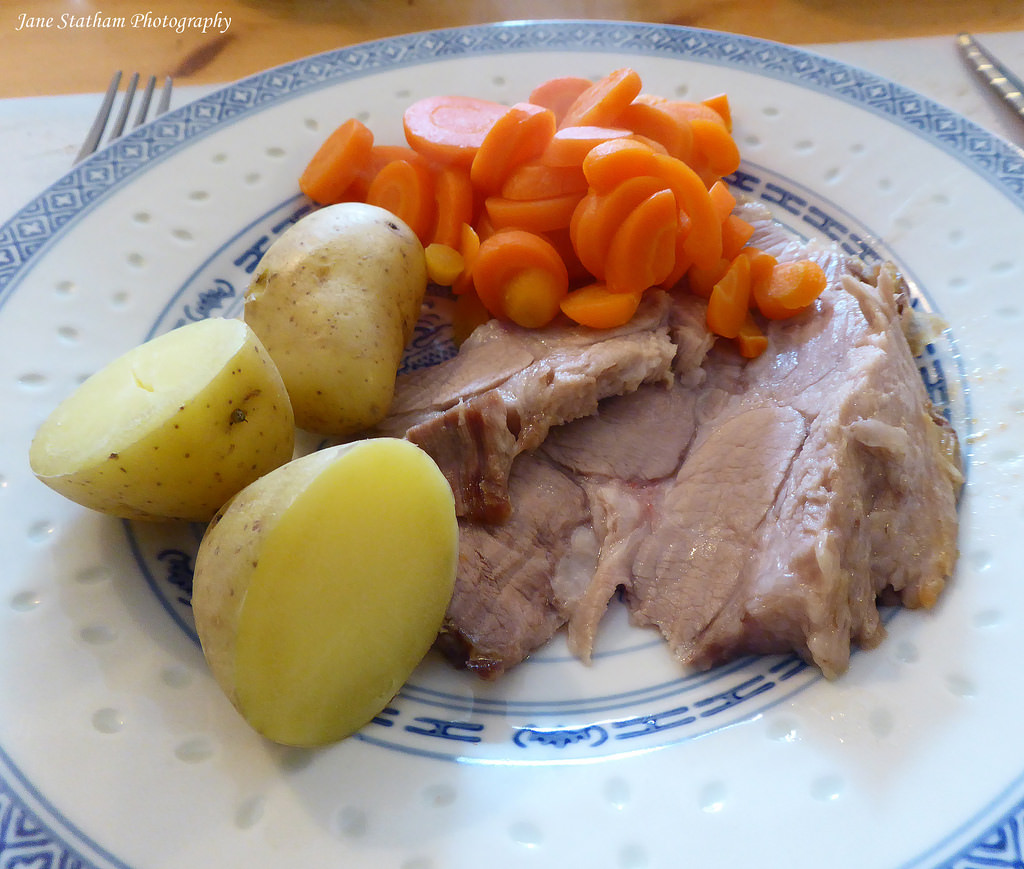boiled potatoes: (185, 433, 472, 758), (22, 302, 314, 534), (235, 201, 437, 431)
